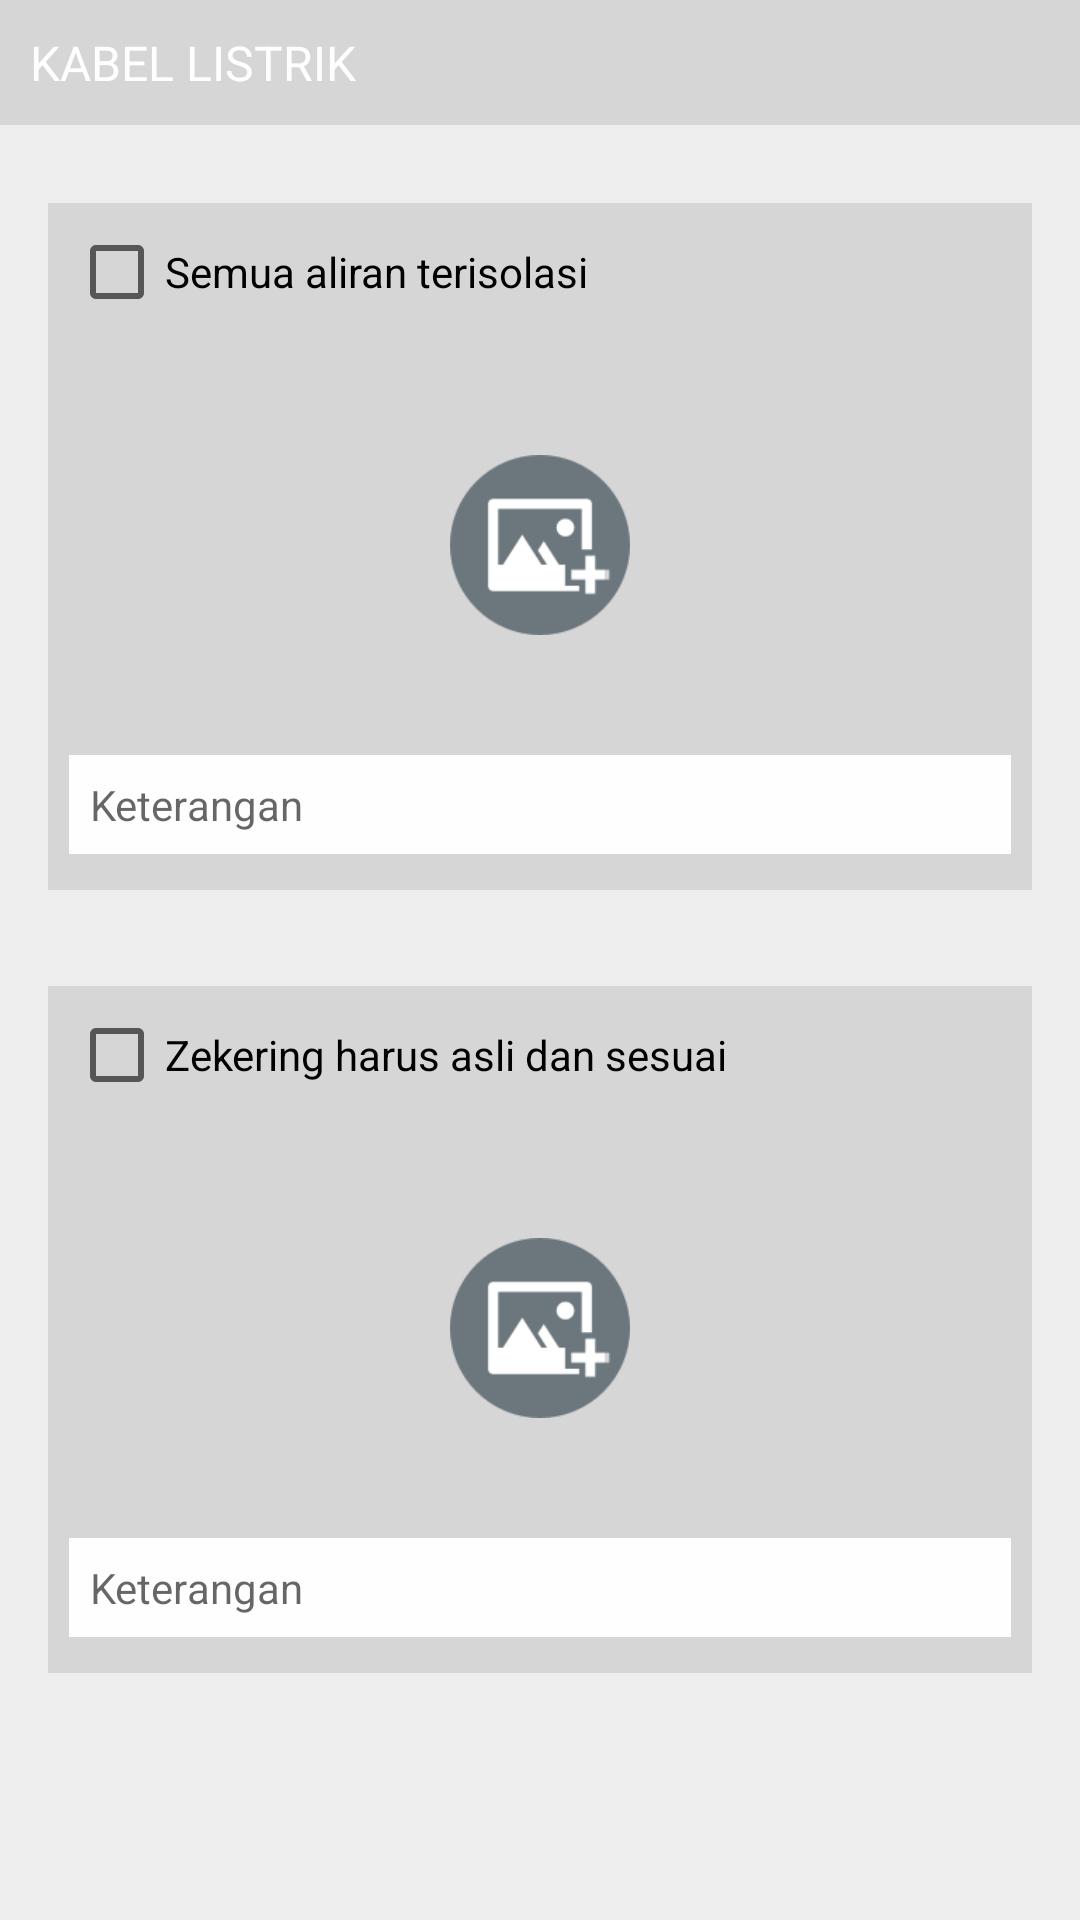

Screen size 1080x1920. Icon name, then its box in pixels as (x1, y1, x2, y2):
add: (450, 455, 630, 635), (450, 1238, 630, 1418)
